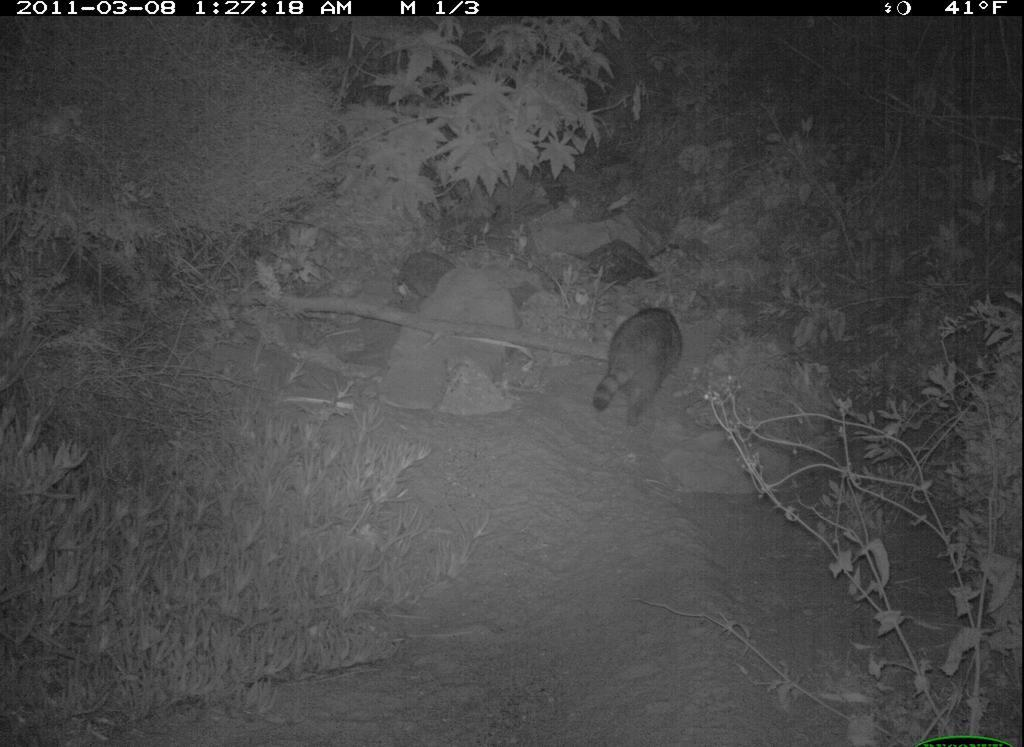raccoon: (580, 287, 707, 431)
